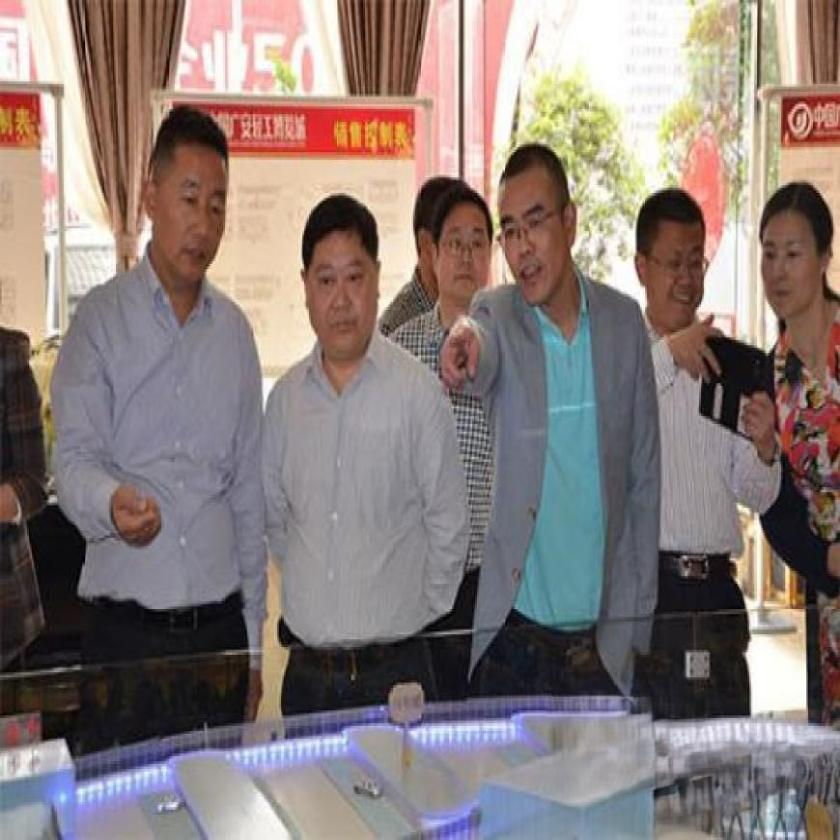Sin_casco: (134, 92, 279, 308), (496, 132, 594, 326), (298, 183, 386, 361), (617, 169, 703, 322), (751, 195, 840, 312), (422, 189, 483, 286)
